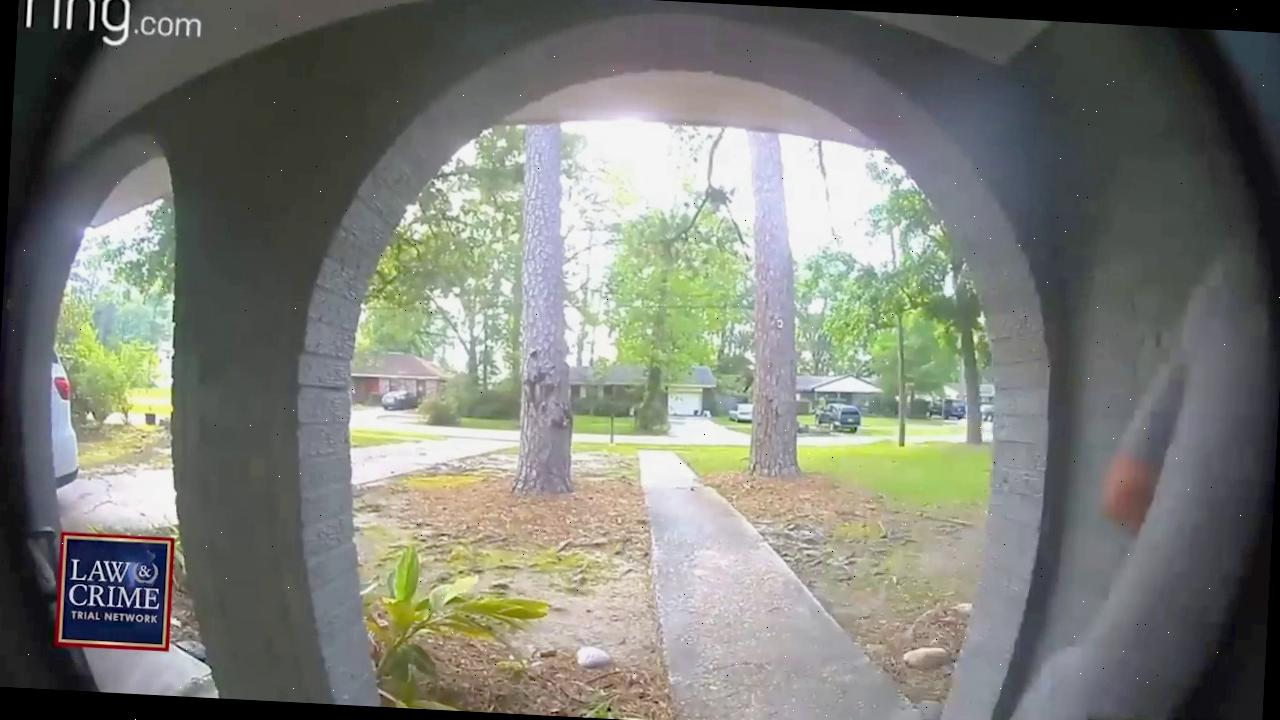suspicion: (1021, 79, 1280, 720)
